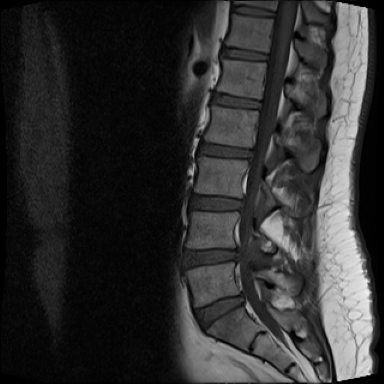Degenerative Disc Disease (DDD): (188, 140, 261, 165)
Lumbar Disc Bulge (LDB): (188, 283, 254, 334), (174, 242, 250, 274), (184, 191, 251, 215)
Normal IVD: (203, 86, 266, 115), (217, 41, 270, 65), (227, 2, 278, 20)
Spinal Stenosis (SS): (223, 235, 257, 270), (229, 188, 258, 219), (229, 282, 251, 317)
